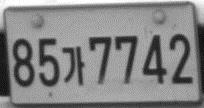2: (169, 32, 193, 83)
4: (142, 34, 168, 83)
5: (38, 38, 60, 86)
7: (88, 35, 112, 85), (114, 34, 137, 84)
8: (12, 37, 34, 86)
가: (61, 45, 85, 85)
